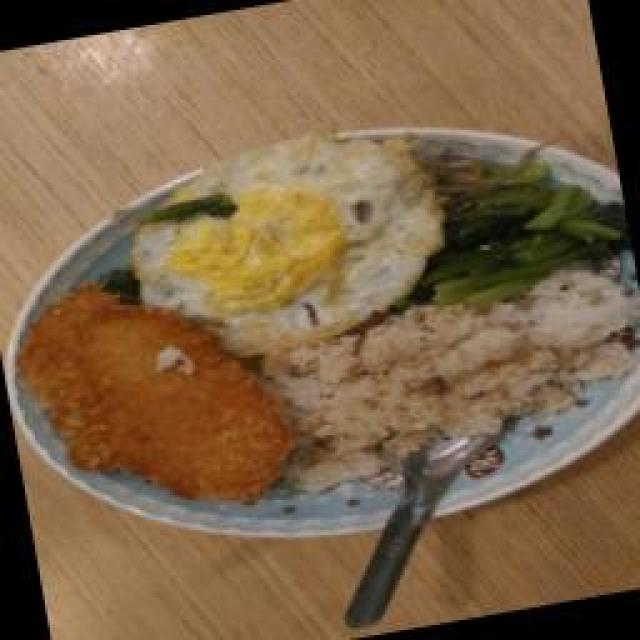fried_chicken: (40, 288, 295, 503)
fried_eggs: (117, 127, 445, 355)
rice: (280, 290, 593, 475)
